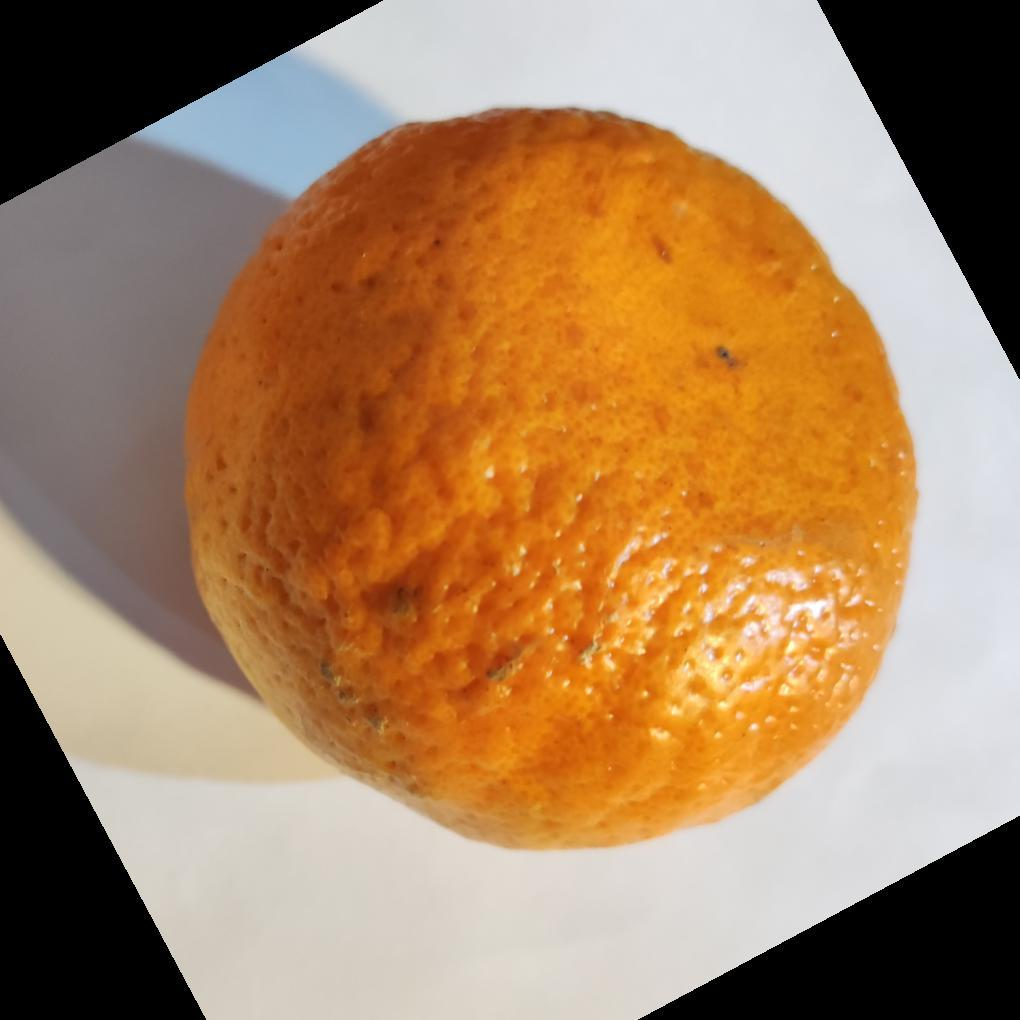FreshGuava: (180, 108, 919, 857)
